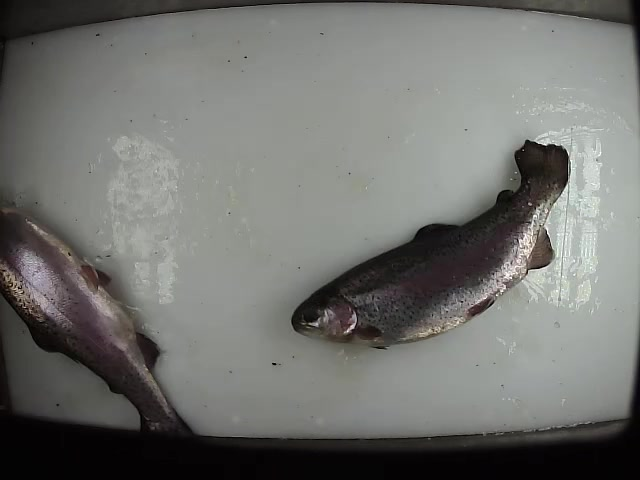fish: (290, 136, 572, 352), (1, 203, 199, 455)
